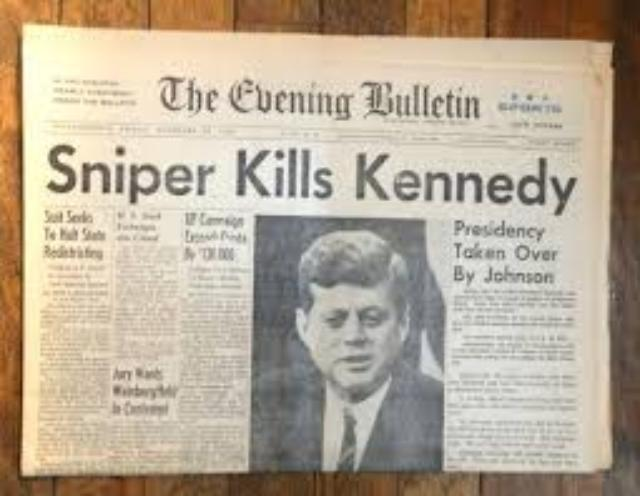cardboard paper: (20, 23, 607, 472)
